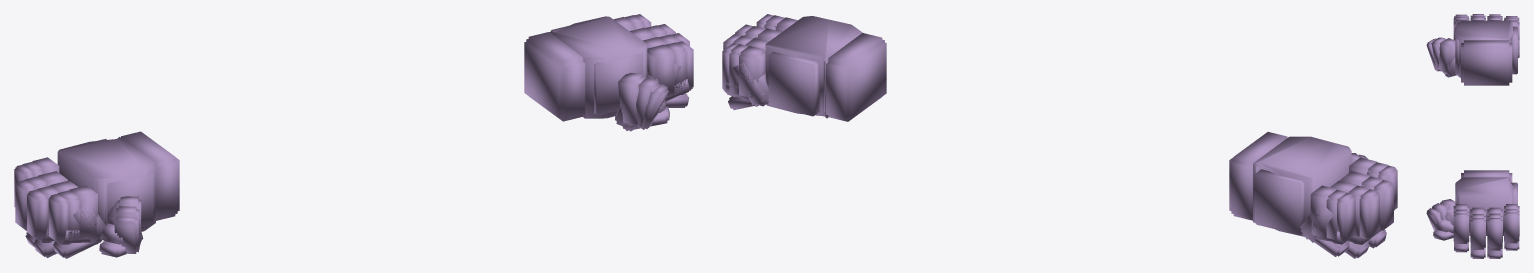
The model's file is chibi-hands.glb.
3 views of the same model, side by side, from view 1: azimuth 30°, elevation 25°; view 2: azimuth 150°, elevation 25°; view 3: azimuth 270°, elevation 25° (orthographic). The views are drawn at different scales.
Visible parts, largest first — view 1: geo_Hand.L, geo_Hand.R, geo_HandGrip.R, geo_HandGrip.L; view 2: geo_Hand.R, geo_Hand.L, geo_HandGrip.R, geo_HandGrip.L; view 3: geo_Hand.L, geo_Hand.R, geo_HandGrip.L, geo_HandGrip.R.
Boxes of the visible parts, x1,y1,x2,y2 form: geo_Hand.L: (524,14,693,129); geo_Hand.R: (14,131,179,253); geo_HandGrip.R: (24,181,143,258); geo_HandGrip.L: (585,49,689,131); geo_Hand.R: (1229,132,1397,242); geo_Hand.L: (722,14,886,121); geo_HandGrip.R: (1253,165,1386,258); geo_HandGrip.L: (725,61,826,110); geo_Hand.L: (1426,170,1519,248); geo_Hand.R: (1426,14,1519,85); geo_HandGrip.L: (1433,207,1519,258); geo_HandGrip.R: (1442,40,1519,77).
Size of the model in its own units: 1.08 by 0.1246 by 0.2031.
